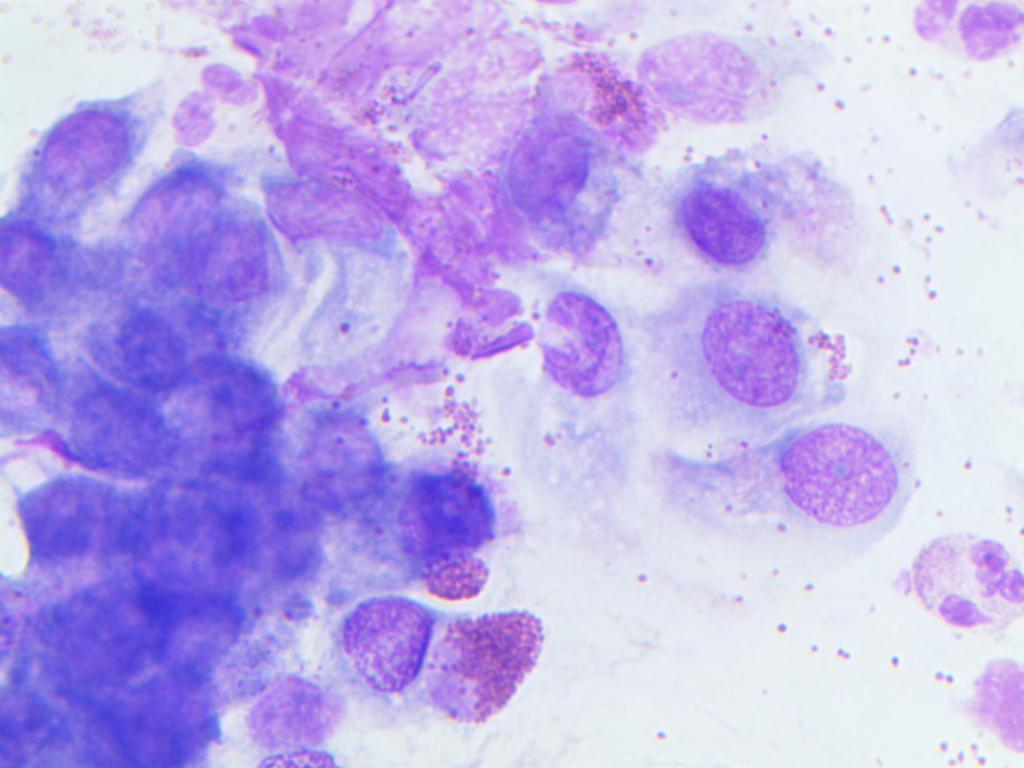artifact: (958, 638, 1024, 762)
eosinophil: (407, 380, 516, 605), (431, 603, 547, 736), (534, 43, 661, 154)
epithelial: (614, 413, 921, 546), (638, 7, 815, 137), (119, 486, 258, 617), (156, 352, 291, 479), (534, 278, 658, 407), (689, 287, 805, 420), (503, 94, 600, 245), (63, 285, 190, 393), (335, 574, 440, 700), (279, 405, 394, 513), (138, 156, 224, 293), (676, 157, 777, 273), (26, 101, 140, 201), (57, 382, 175, 473), (153, 591, 249, 681)
neutrophil: (151, 51, 270, 159), (907, 530, 1021, 626), (897, 0, 1024, 68)
